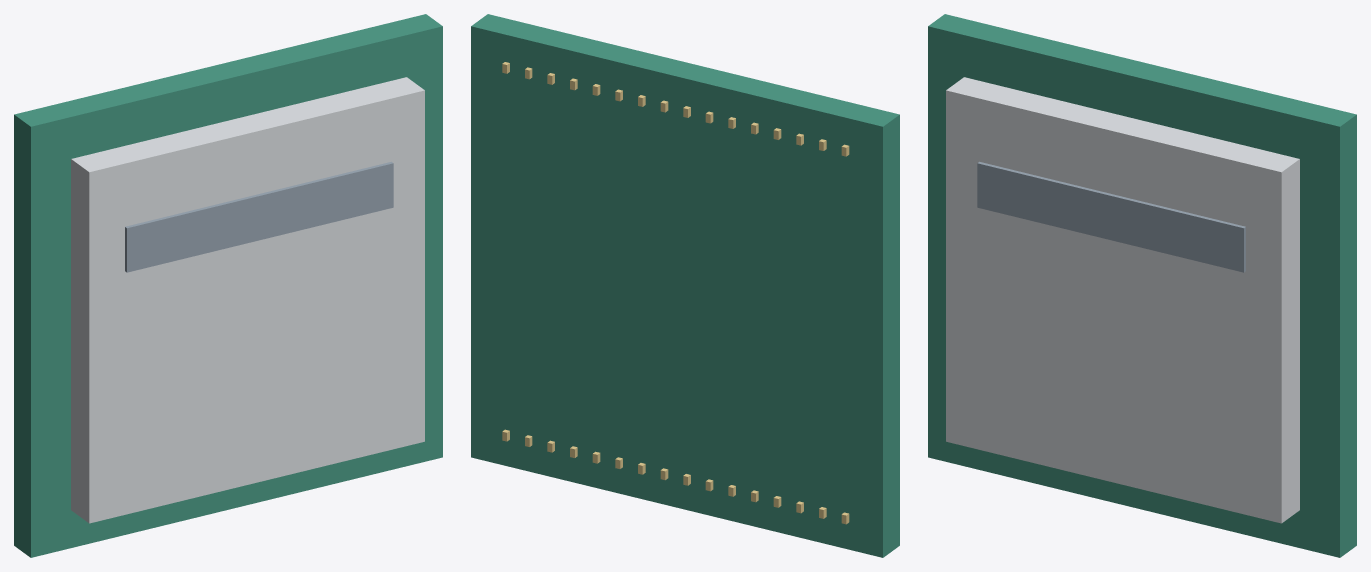
File: cpu.glb
3 views of the same model, side by side, from view 1: azimuth 30°, elevation 25°; view 2: azimuth 150°, elevation 25°; view 3: azimuth 330°, elevation 25° (orthographic).
Visible parts, largest first — view 1: cpu_ihs_2, cpu_pcb_1, intel_mark_3; view 2: cpu_pcb_1; view 3: cpu_ihs_2, cpu_pcb_1, intel_mark_3.
Boxes of the visible parts, x1,y1,x2,y2 form: cpu_ihs_2: [71, 77, 424, 523]; cpu_pcb_1: [14, 14, 442, 557]; intel_mark_3: [125, 161, 393, 272]; cpu_pcb_1: [471, 14, 899, 557]; cpu_ihs_2: [946, 77, 1299, 523]; cpu_pcb_1: [928, 14, 1356, 557]; intel_mark_3: [977, 161, 1245, 272].
Bounding box in the file's own units: 0.34 × 0.34 × 0.0615.
